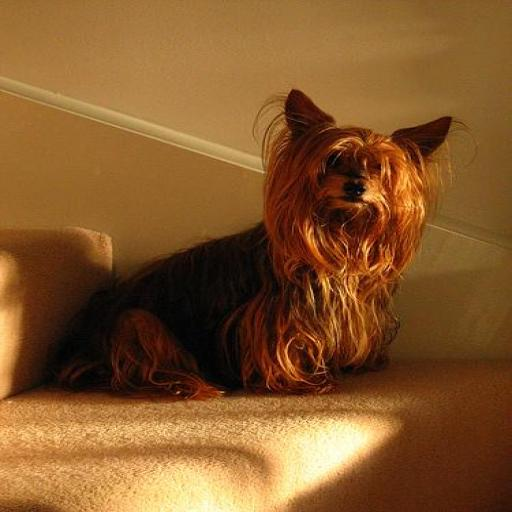dog_face: (257, 87, 457, 232)
